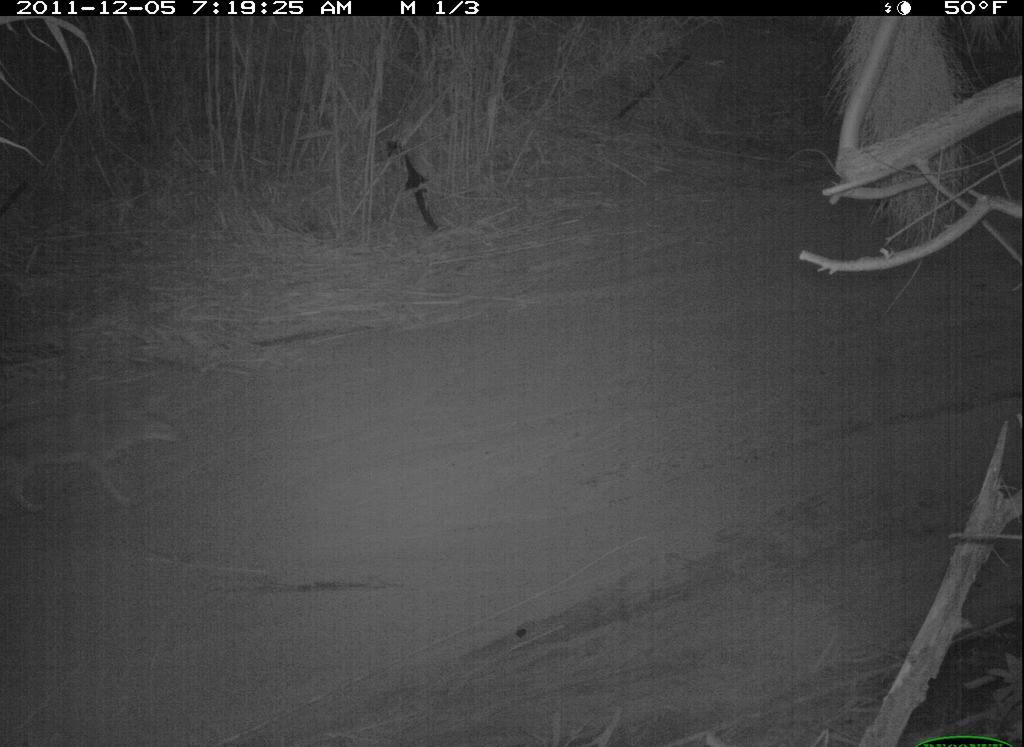coyote: (8, 391, 195, 521)
